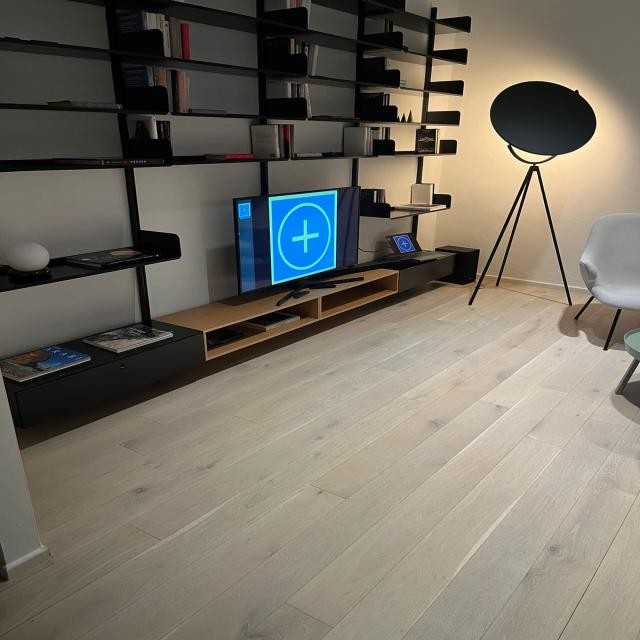Marker: (269, 190, 336, 285), (393, 235, 416, 253), (238, 203, 251, 217)
